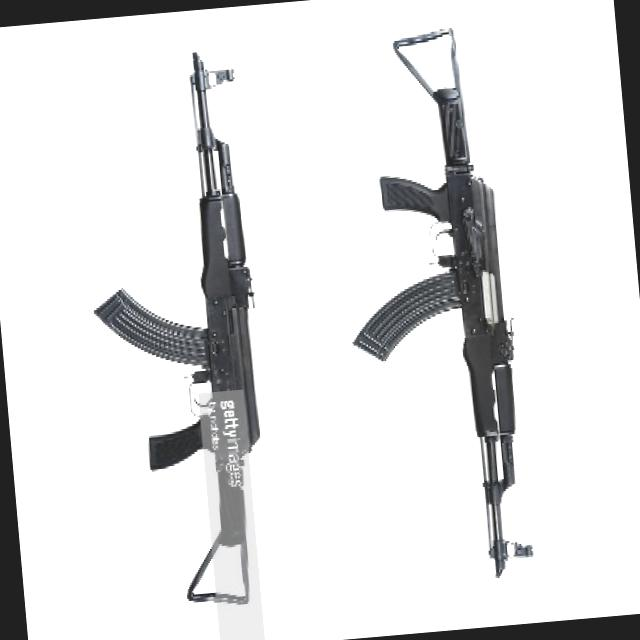long weapon: (70, 25, 306, 622), (324, 0, 559, 593)
